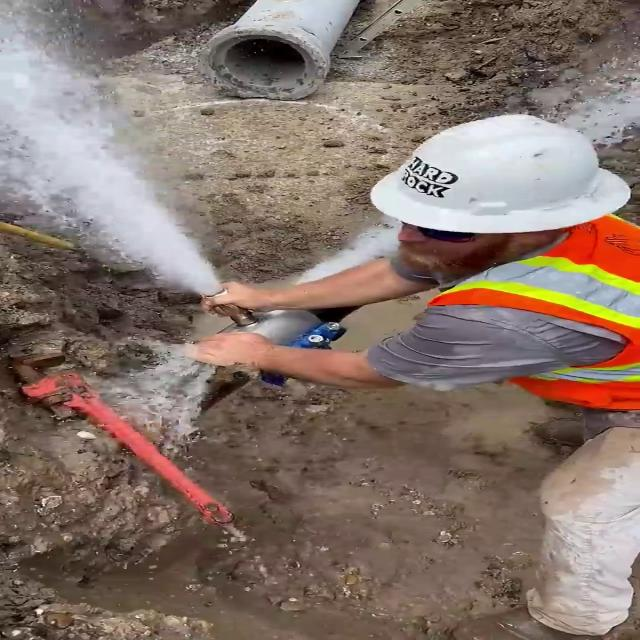leak: (288, 61, 640, 286)
